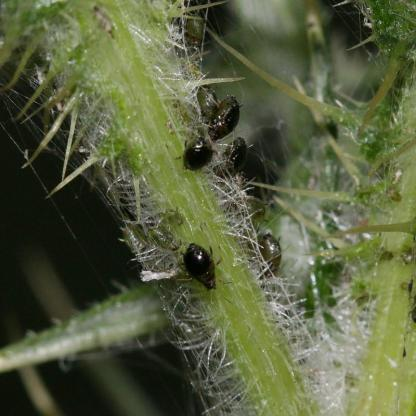aphid: (176, 237, 229, 300), (175, 128, 216, 178), (205, 90, 241, 142), (217, 136, 252, 173), (259, 228, 283, 278)
